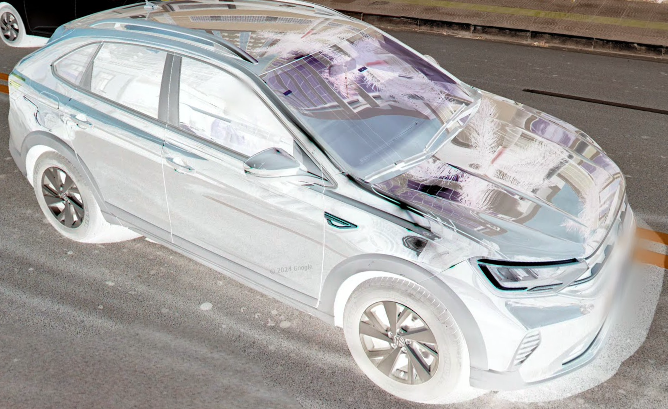car: (8, 1, 637, 404)
